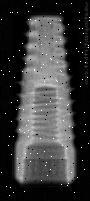Novodent: (13, 14, 78, 186)
